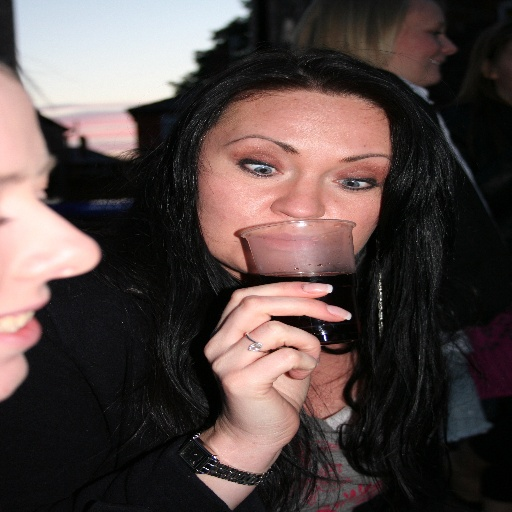hand: (189, 270, 355, 477)
